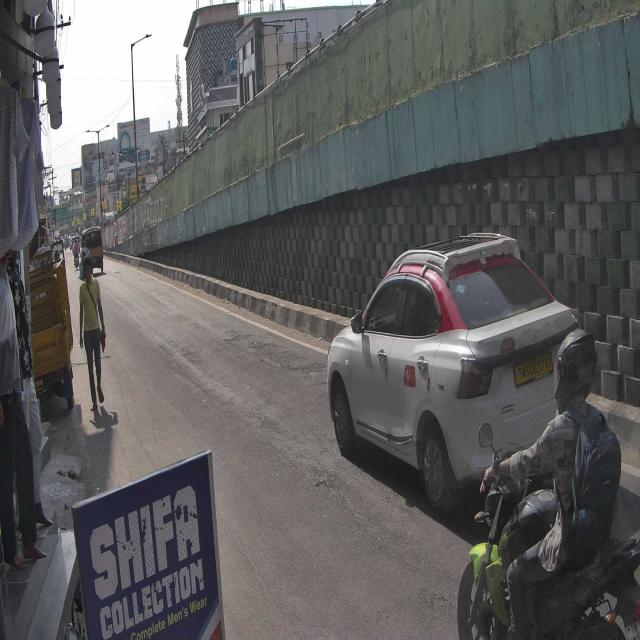single_rider: (456, 328, 640, 640)
